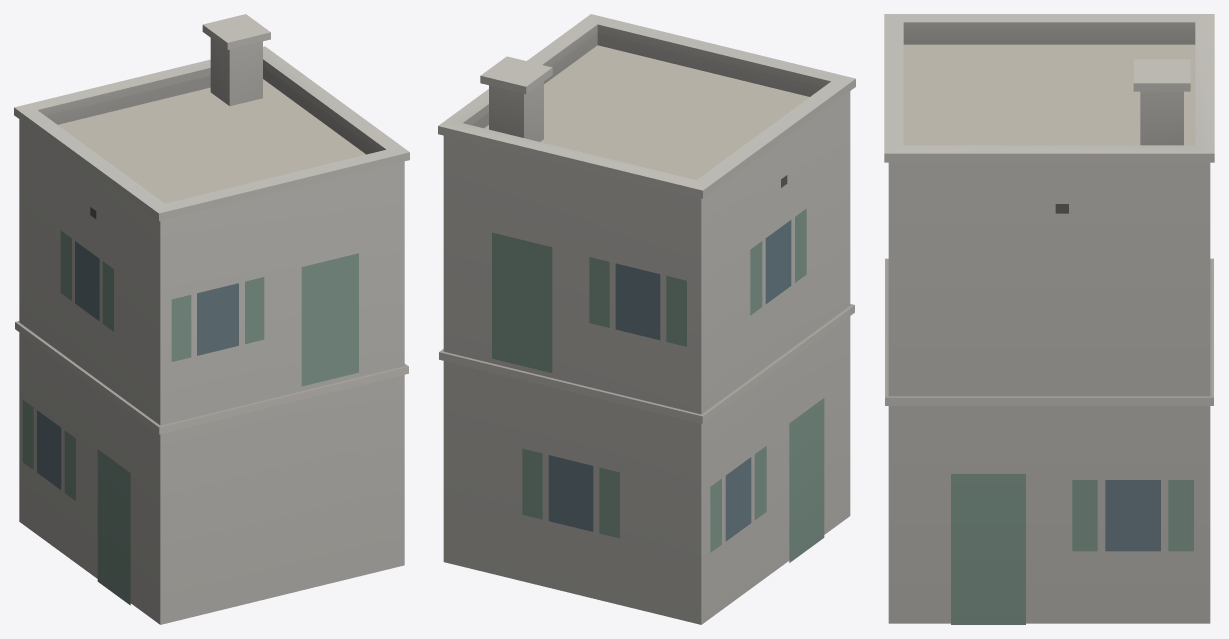
The picture shows the model from 3 angles, left to right: view 1: azimuth 30°, elevation 25°; view 2: azimuth 150°, elevation 25°; view 3: azimuth 270°, elevation 25°; orthographic projection. The views are drawn at different scales.
Size of the model in its own units: 4.4 by 7.72 by 4.4.
